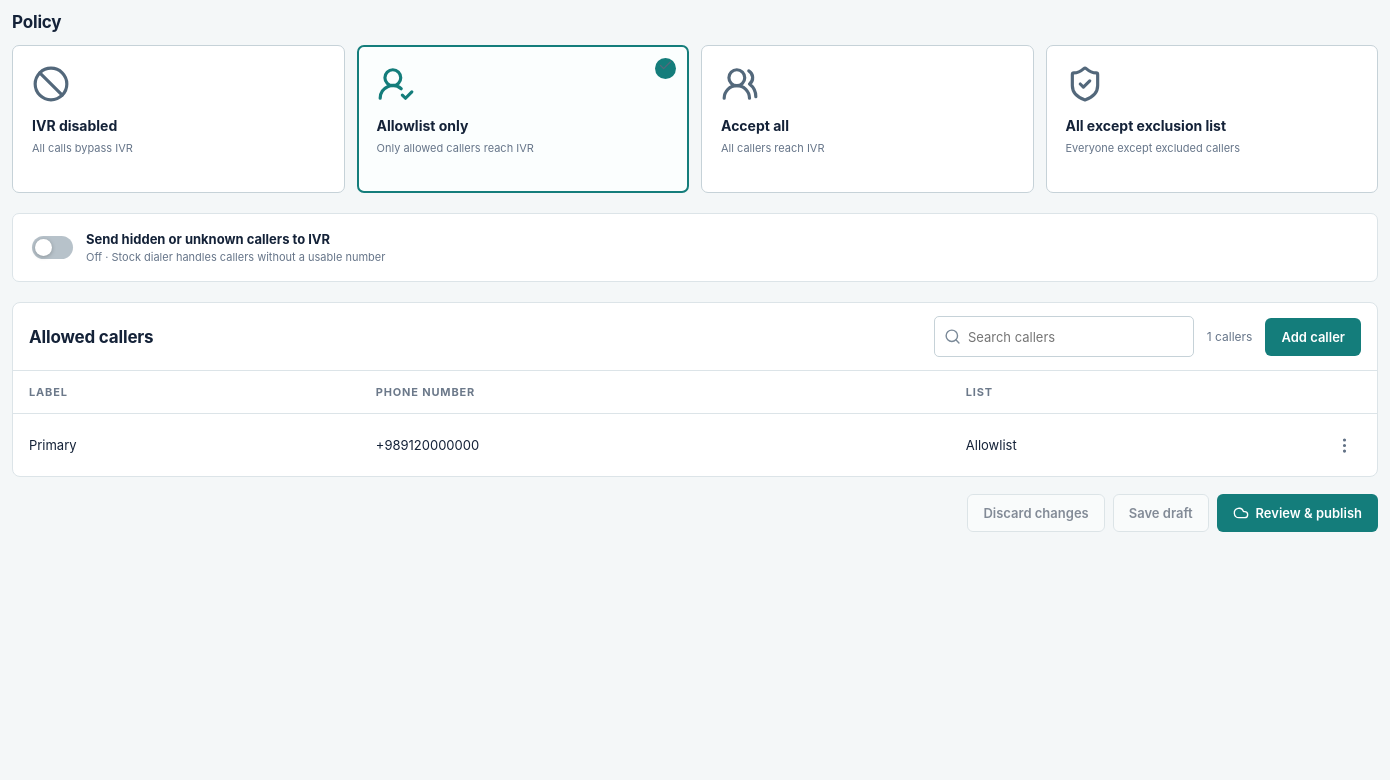
Test: Caller Policy publishing › keeps validation failures out of the publish dialog
Check: the heading "Policy" is shown, box [12, 12, 61, 32]
Click the button "Review & publish" at (1297, 513), box [1216, 494, 1378, 532]
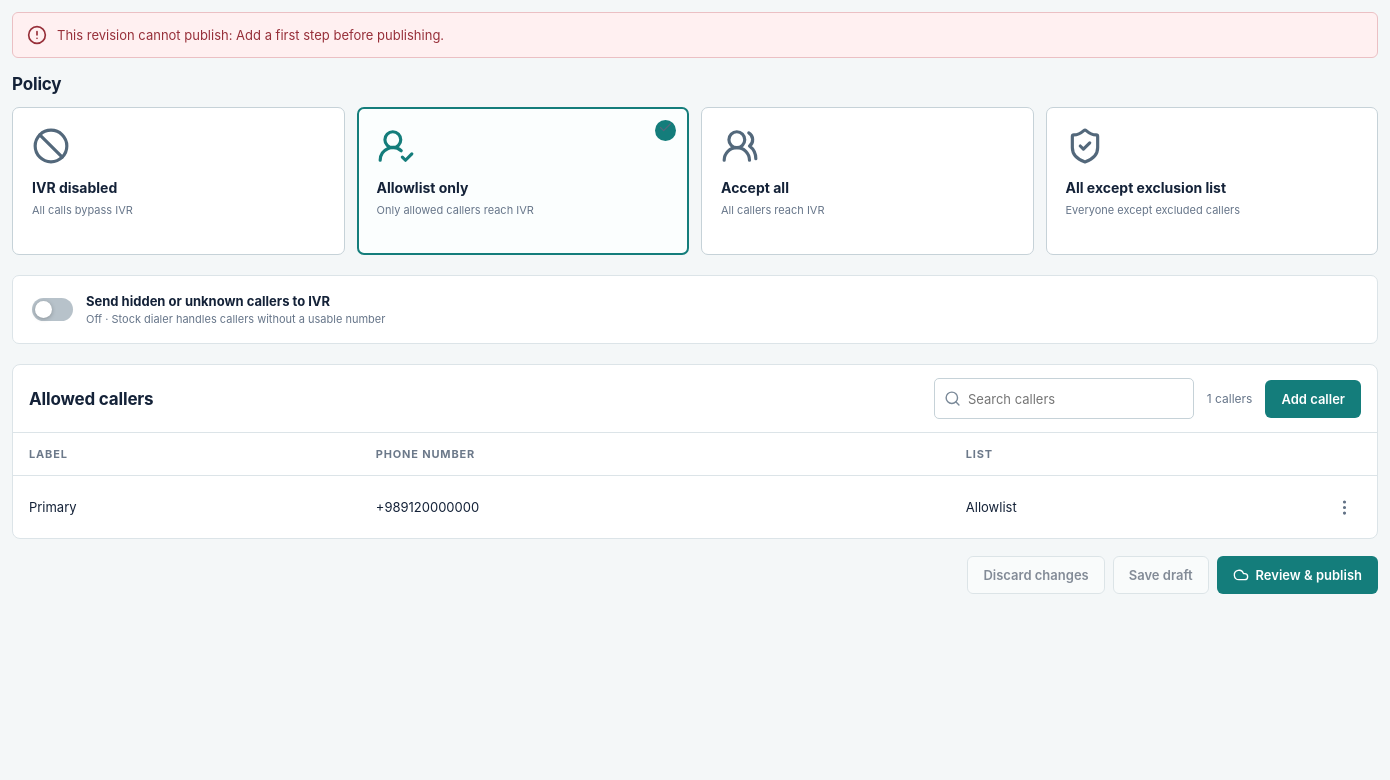
Check: the message shows "Add a first step before publishing.", box [57, 27, 444, 43]
